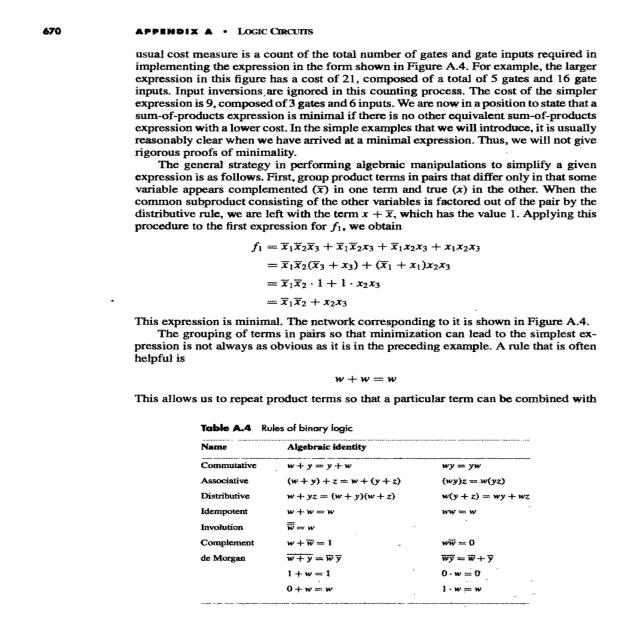diagram: (131, 416, 640, 640)
